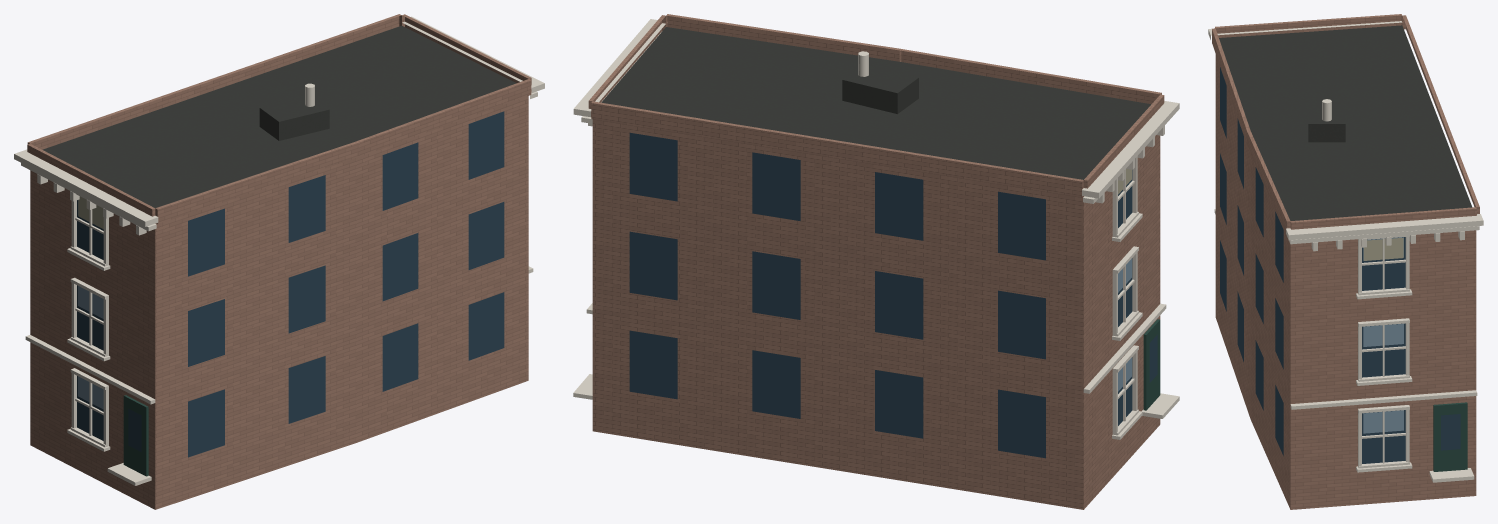
3 views of the same model, side by side, from view 1: azimuth 30°, elevation 25°; view 2: azimuth 150°, elevation 25°; view 3: azimuth 270°, elevation 25° (orthographic). The views are drawn at different scales.
Parts seen in each view (by area): view 1: Footprint 0 / surface 2, Footprint 0 / surface 1, Inset glazing, Facade bay volumes, Cornices and window frames, Storefronts and doors, Sky reflection panels, Inferred rooftop service enclosure / surface 5, Inferred rooftop service enclosure / surface 3; view 2: Footprint 0 / surface 2, Footprint 0 / surface 1, Inset glazing, Facade bay volumes, Cornices and window frames, Inferred rooftop service enclosure / surface 6, Storefronts and doors, Inferred rooftop service enclosure / surface 3; view 3: Footprint 0 / surface 2, Footprint 0 / surface 1, Inset glazing, Cornices and window frames, Facade bay volumes, Sky reflection panels, Storefronts and doors, Interior blind variation, Inferred rooftop service enclosure / surface 1, Inferred rooftop service enclosure / surface 3.
Part boxes in pixels (<box>): Footprint 0 / surface 2: <box>30,96,528,509</box>; Footprint 0 / surface 1: <box>42,25,516,208</box>; Inset glazing: <box>77,111,504,457</box>; Facade bay volumes: <box>27,14,531,224</box>; Cornices and window frames: <box>14,16,544,485</box>; Storefronts and doors: <box>123,395,148,476</box>; Sky reflection panels: <box>78,200,103,409</box>; Inferred rooftop service enclosure / surface 5: <box>279,109,329,140</box>; Inferred rooftop service enclosure / surface 3: <box>260,96,329,121</box>; Footprint 0 / surface 2: <box>592,119,1160,509</box>; Footprint 0 / surface 1: <box>601,27,1150,179</box>; Inset glazing: <box>629,132,1157,458</box>; Facade bay volumes: <box>588,14,1164,197</box>; Cornices and window frames: <box>573,19,1179,439</box>; Inferred rooftop service enclosure / surface 6: <box>842,80,897,113</box>; Storefronts and doors: <box>1143,319,1160,410</box>; Inferred rooftop service enclosure / surface 3: <box>842,65,918,93</box>; Footprint 0 / surface 2: <box>1215,54,1476,509</box>; Footprint 0 / surface 1: <box>1219,25,1472,220</box>; Inset glazing: <box>1220,67,1460,463</box>; Cornices and window frames: <box>1208,21,1483,482</box>; Facade bay volumes: <box>1212,14,1479,232</box>; Sky reflection panels: <box>1363,237,1403,433</box>; Storefronts and doors: <box>1433,402,1467,471</box>; Interior blind variation: <box>1363,237,1403,260</box>; Inferred rooftop service enclosure / surface 1: <box>1308,124,1345,142</box>; Inferred rooftop service enclosure / surface 3: <box>1308,100,1345,123</box>.
Size of the model in its own units: 16.73 by 11.2 by 8.86.
